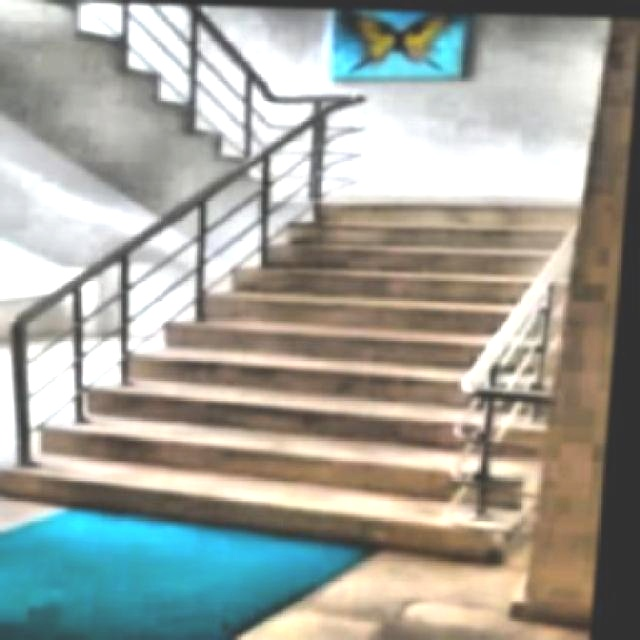stair: (5, 164, 568, 568)
